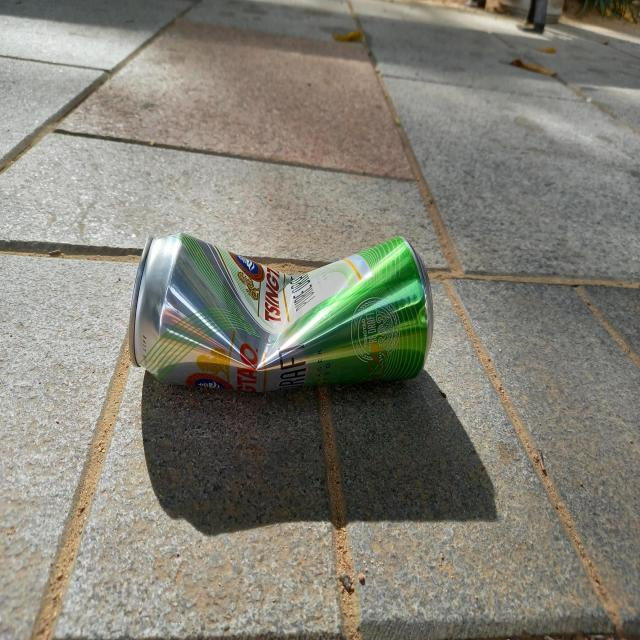can: (128, 233, 434, 392)
